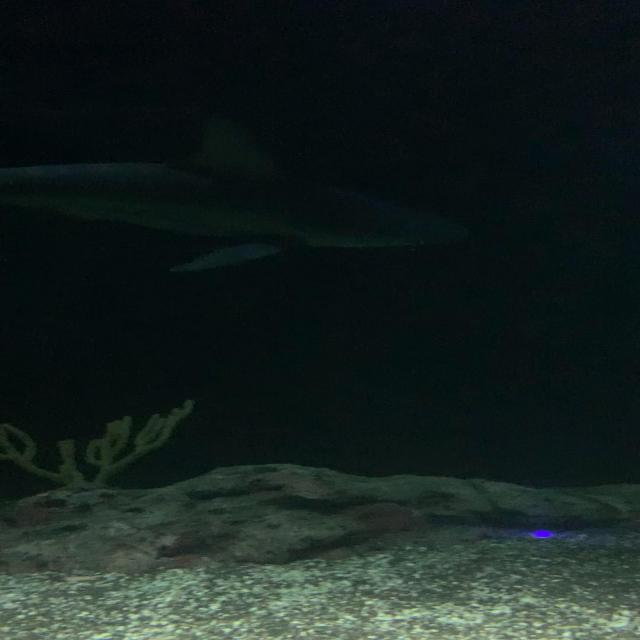shark: (0, 112, 472, 272)
